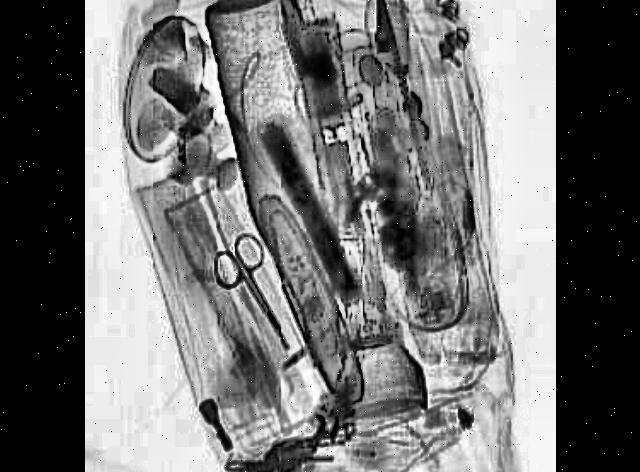Scissors: (208, 219, 302, 367)
